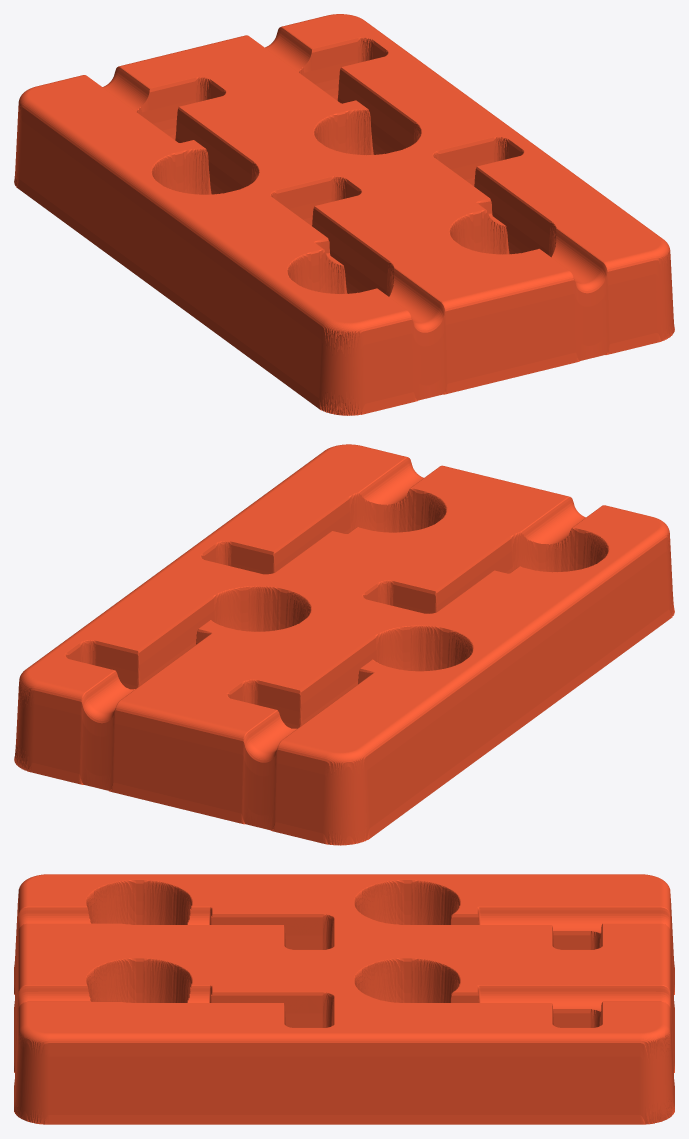
Rendered from mold.glb.
3 renders of one model, top to bottom at view 1: azimuth 30°, elevation 25°; view 2: azimuth 150°, elevation 25°; view 3: azimuth 270°, elevation 25°, orthographic.
Parts seen in each view (by area): view 1: geometry_0; view 2: geometry_0; view 3: geometry_0.
Part boxes in pixels (x1=…): geometry_0: x1=14, y1=14, x2=674, y2=415; geometry_0: x1=14, y1=444, x2=674, y2=845; geometry_0: x1=14, y1=874, x2=674, y2=1124.
Size of the model in its own units: 0.1039 by 0.0245 by 0.171.
